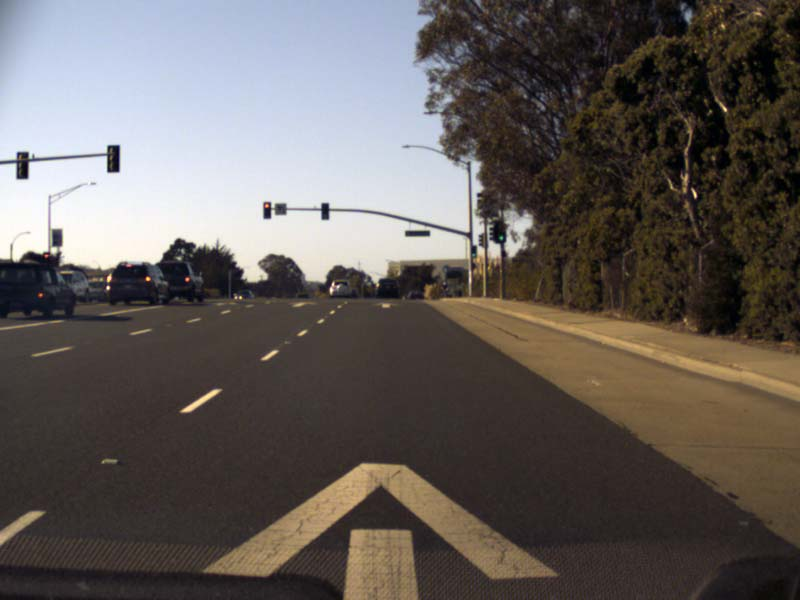Green: (496, 223, 504, 241), (321, 202, 328, 219), (471, 245, 475, 257)
Red: (263, 201, 270, 218), (43, 252, 50, 266)
